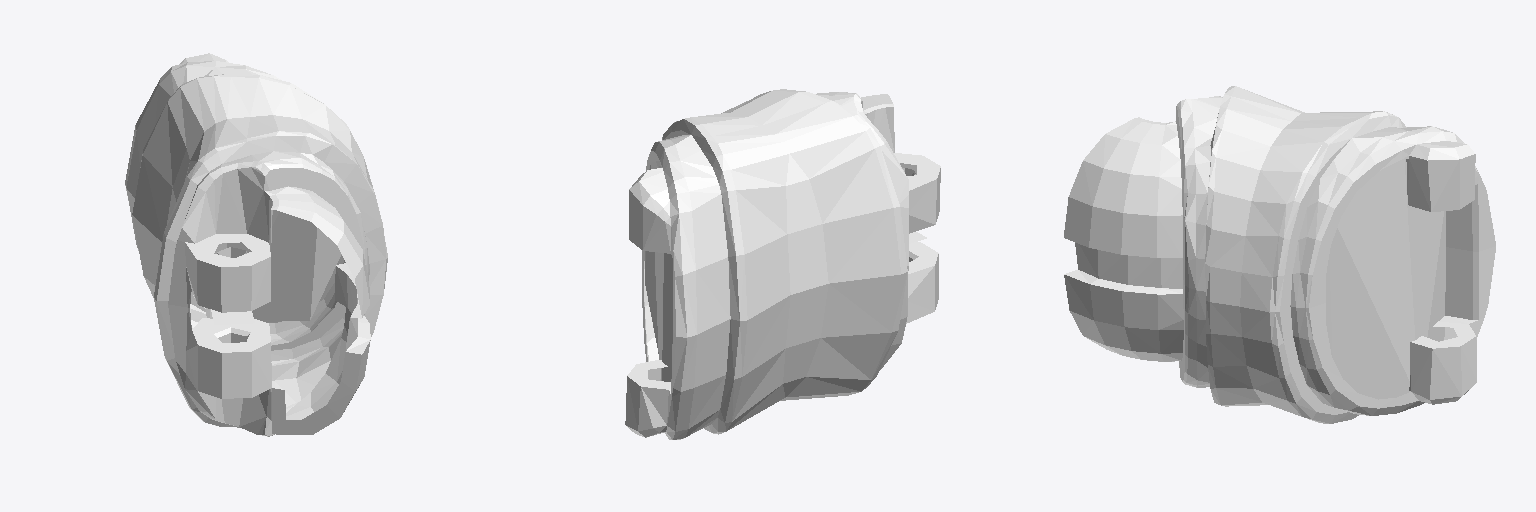
3 views of the same model, side by side, from view 1: azimuth 30°, elevation 25°; view 2: azimuth 150°, elevation 25°; view 3: azimuth 270°, elevation 25° (orthographic).
Parts seen in each view (by area): view 1: LThumb1_LPhalax_7; view 2: LThumb1_LPhalax_7; view 3: LThumb1_LPhalax_7.
Part boxes in pixels (x1,y1,x2,y2): LThumb1_LPhalax_7: (125, 53, 387, 436); LThumb1_LPhalax_7: (625, 89, 940, 439); LThumb1_LPhalax_7: (1064, 86, 1495, 423).
Size of the model in its own units: 0.136 by 0.1591 by 0.2132.
Materials: 1 (1 with a texture image).